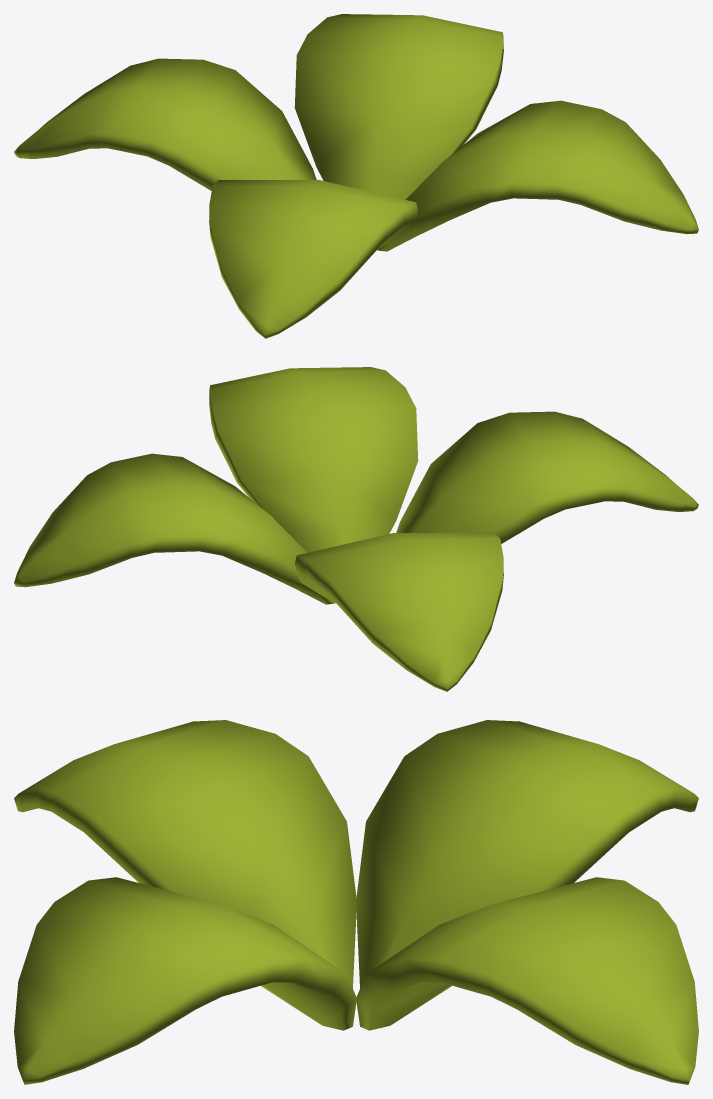
Rendered from Plant_Small.gltf.
3 renders of one model, top to bottom at view 1: azimuth 30°, elevation 25°; view 2: azimuth 150°, elevation 25°; view 3: azimuth 270°, elevation 25°, orthographic. The views are drawn at different scales.
Visible parts, largest first — view 1: Plant_Small; view 2: Plant_Small; view 3: Plant_Small.
Part boxes in pixels (box(x1,y1,x2,y2)): Plant_Small: box(14, 14, 698, 338); Plant_Small: box(14, 367, 698, 691); Plant_Small: box(14, 720, 698, 1084).
Bounding box in the file's own units: 1.16 × 0.3238 × 1.17.
